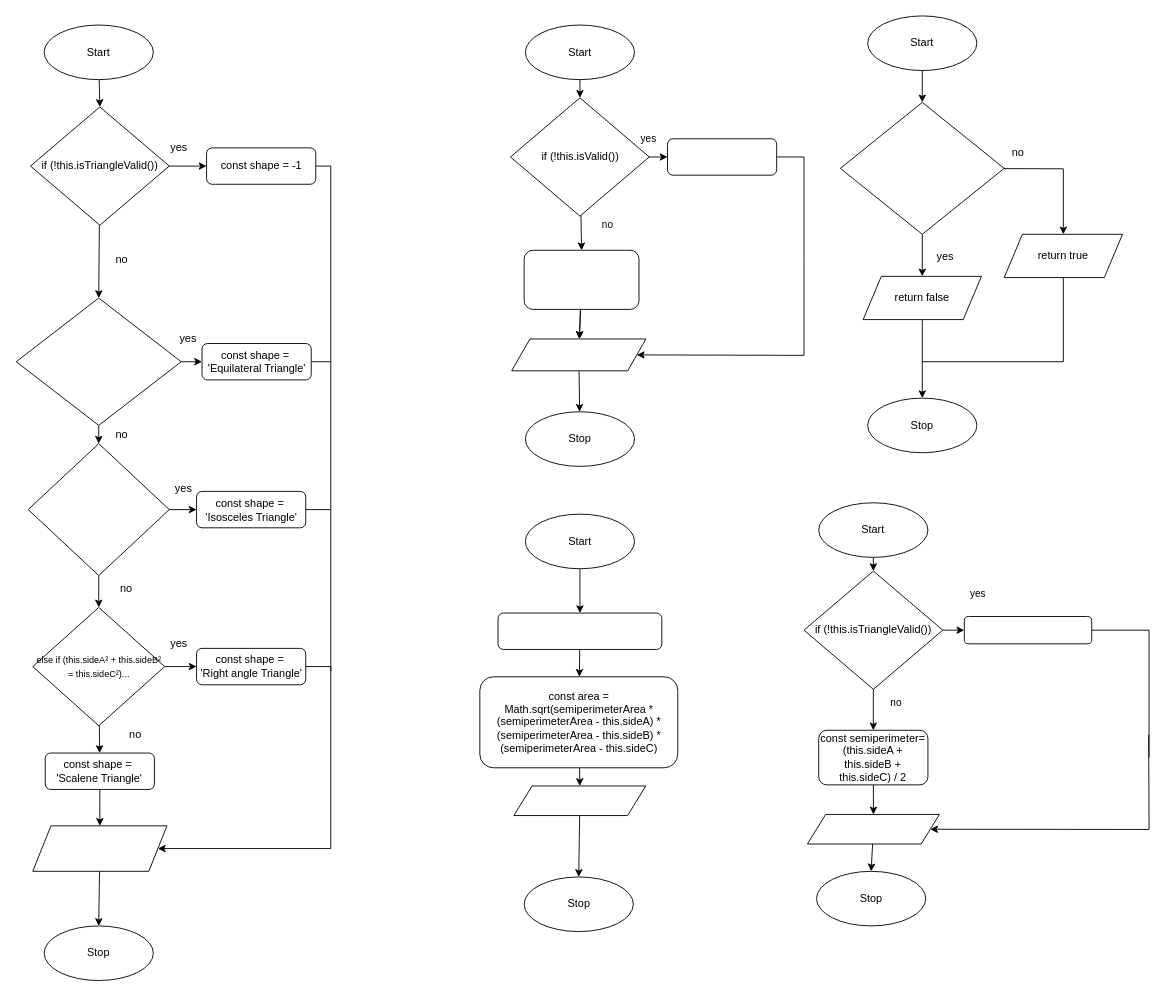
This 1172x996 diagram has some shape labels left out. Each missing label, with the centre of its shape:
"const perimeter = -1" goes at pixel 722 156.
"const perimeter = this.sideA + this.sideB + this.sideC" goes at pixel 581 279.
"const semiArea = this.Semiperimeter()" goes at pixel 579 630.
"const semiperimeter= -1" goes at pixel 1027 630.
"else if (this.side A === this.sideB &&this.sideB === this.sideC)" goes at pixel 98 361.
"else if (this.sideA === this.sideB) ||..." goes at pixel 98 509.
"if (this.sideA + this.sideB <= this.sideC). || .." goes at pixel 921 167.
"return area" goes at pixel 579 800.
"return perimeter" goes at pixel 578 354.
"return semiperimeter" goes at pixel 873 829.
"return shape" goes at pixel 99 848.
